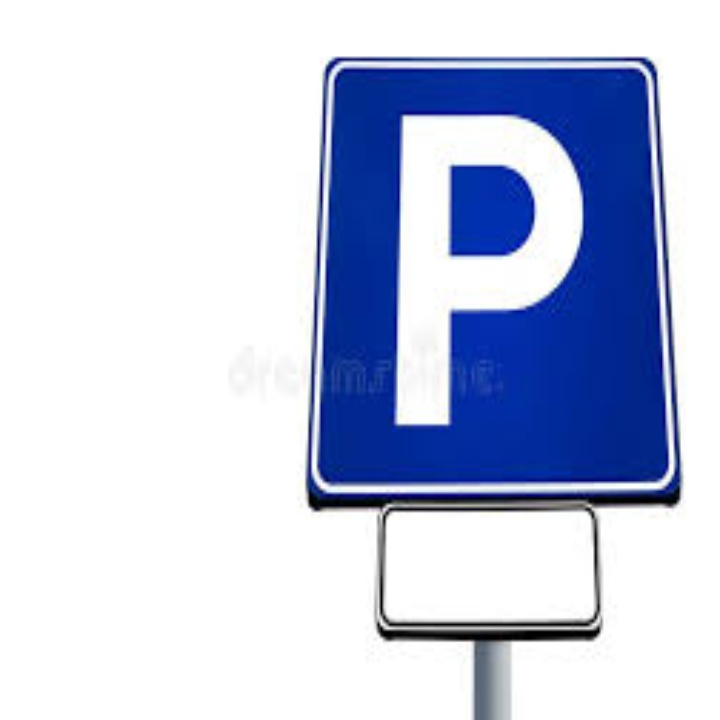parking: (393, 106, 587, 432)
